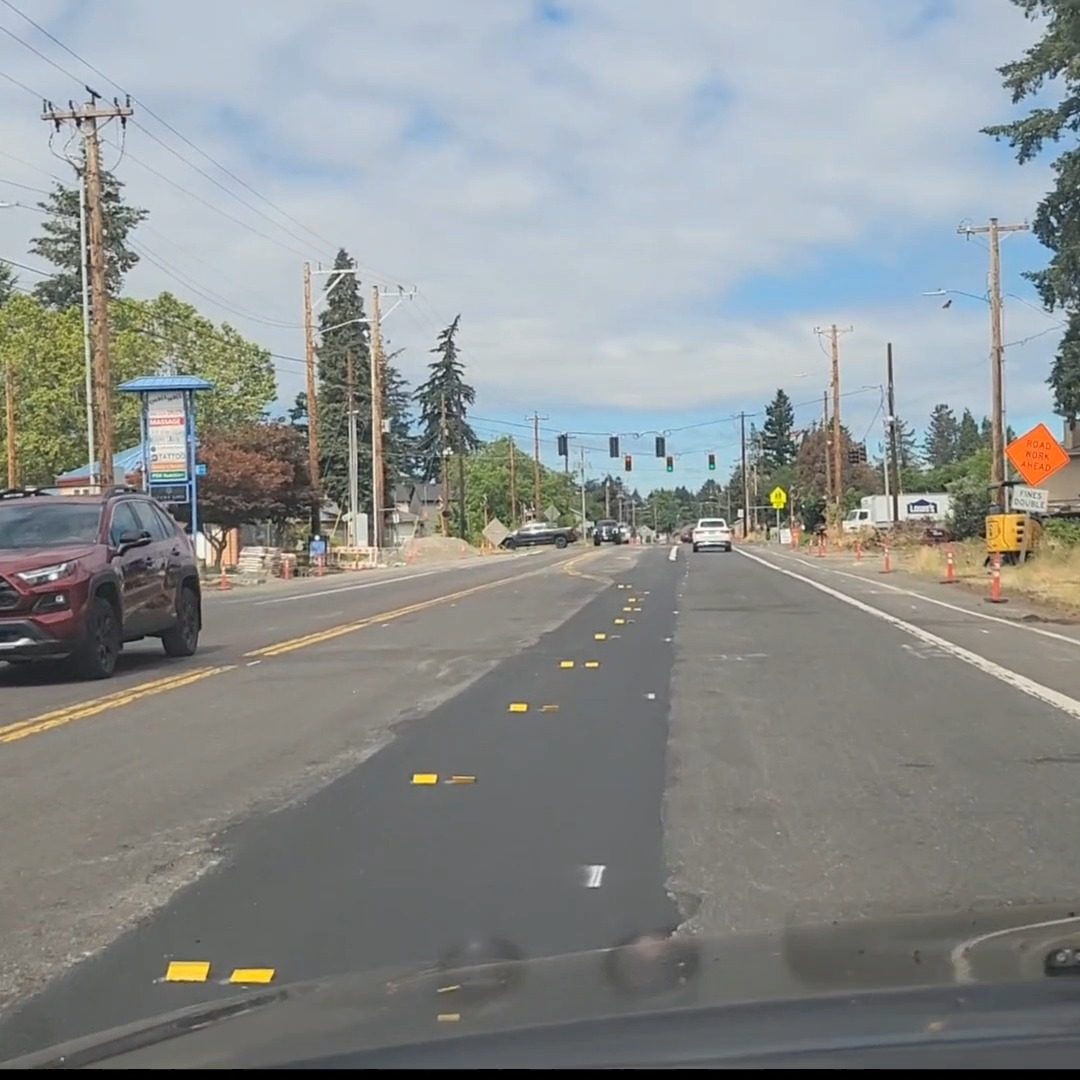car: (3, 484, 202, 681), (500, 520, 577, 549), (690, 518, 733, 552), (590, 519, 628, 546), (920, 527, 954, 545), (680, 528, 691, 543)
crosswalk-sign: (769, 486, 786, 509), (543, 502, 560, 522)
delineator: (985, 555, 1006, 602), (939, 548, 957, 582), (878, 542, 893, 574), (310, 555, 326, 576), (852, 536, 863, 561), (405, 543, 417, 564), (817, 534, 825, 556), (833, 529, 842, 548), (479, 538, 490, 552)
